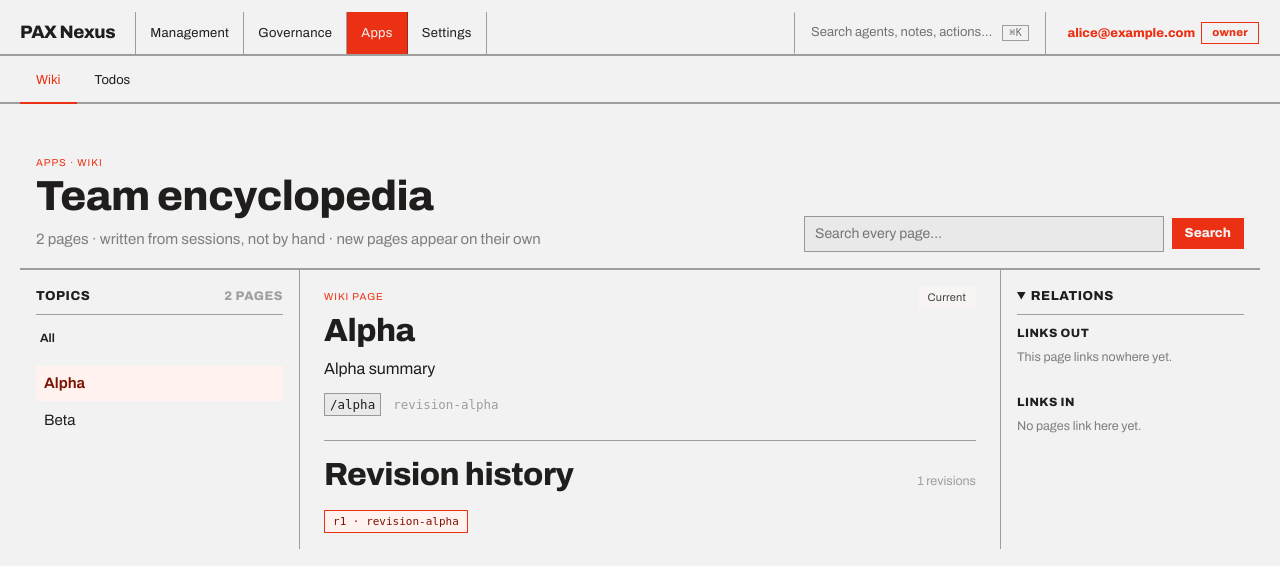
wiki browse route navigation fetch cadence › fetches the navigation tree once per mount, not once per page selection
Expected: the heading "Alpha" is shown, [324, 313, 415, 348]
Click the button "Beta": (160, 421) [36, 403, 283, 438]
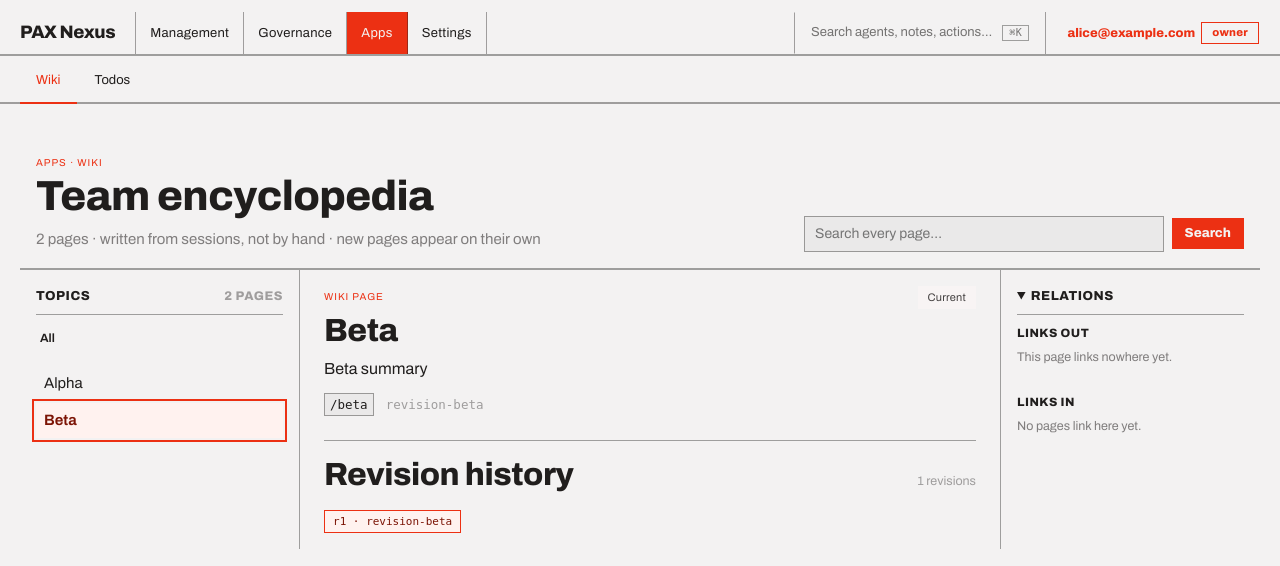
Result: the heading "Beta" is shown at [324, 313, 398, 348]
